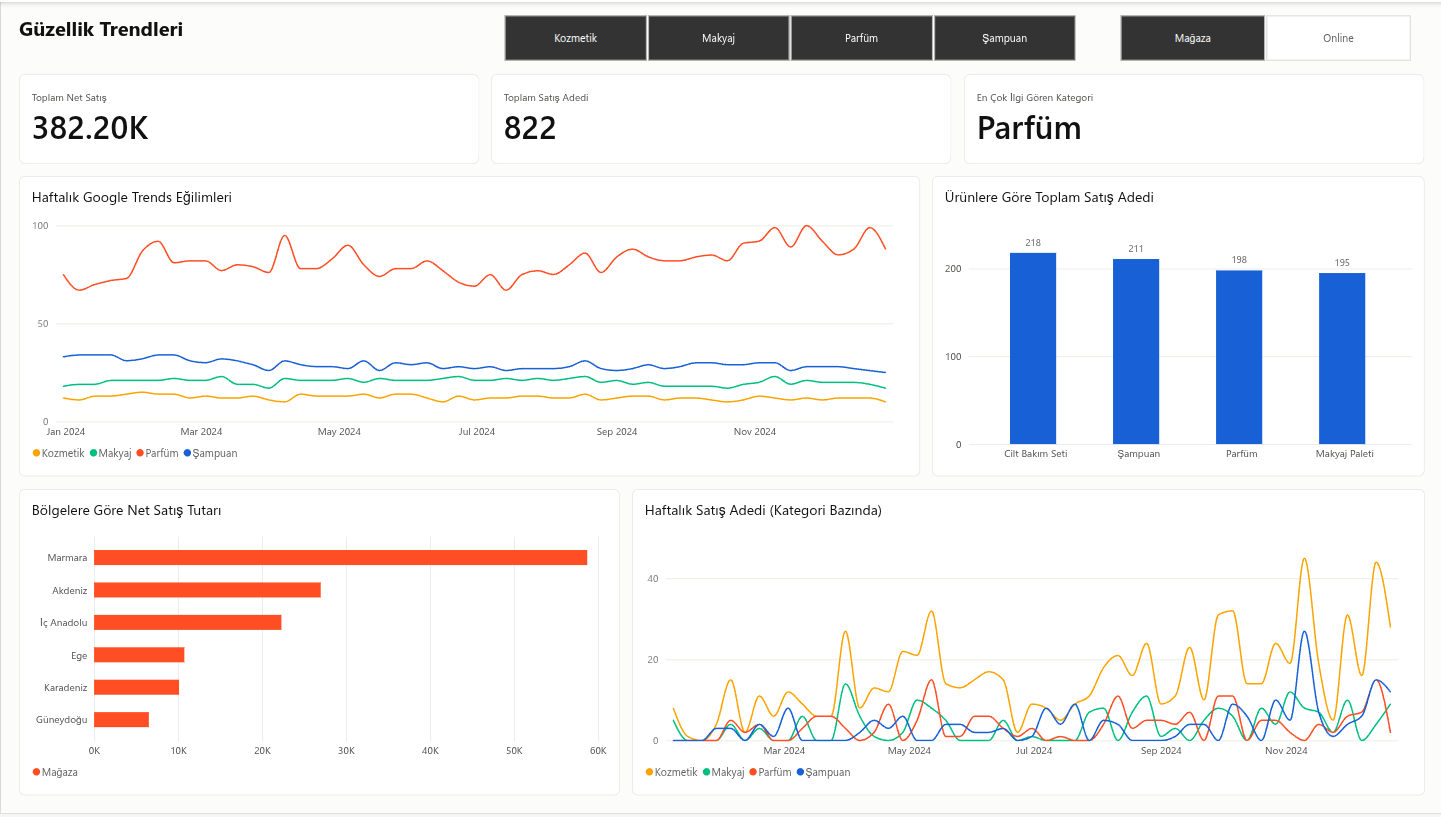

Layout of this report page (visuals, bound fields, positions):
{"tool":"powerbi","page":{"name":"Page 1","canvas":[1920,1080],"ordinal":0},"visuals":[{"type":"cardVisual","fields":{"Data":["Sum(kozmetik_urun.net_satis_tutari)"]},"box":[24,96,613,120],"z":0},{"type":"cardVisual","fields":{"Data":["Sum(kozmetik_urun.toplam_satis_adedi)"]},"box":[653,96,613,120],"z":1},{"type":"cardVisual","fields":{"Data":["Min(kategori_siralama.kategori)"]},"box":[1282,96,613,120],"z":2},{"type":"lineChart","title":"Haftalık Google Trends Eğilimleri","fields":{"Category":["trends_haftalik.tarih"],"Series":["trends_haftalik.kategori"],"Y":["Avg(trends_haftalik.arama_puani)"]},"box":[24,232,1200,400],"z":3},{"type":"lineChart","title":"Haftalık Satış Adedi (Kategori Bazında)","fields":{"Category":["trends_satis.hafta_baslangic"],"Series":["trends_satis.kategori"],"Y":["Avg(trends_satis.satis_adedi)"]},"box":[840,648,1056,408],"z":4},{"type":"clusteredColumnChart","title":"Ürünlere Göre Toplam Satış Adedi","fields":{"Category":["kozmetik_urun.urun"],"Y":["Sum(kozmetik_urun.toplam_satis_adedi)"]},"box":[1240,232,656,400],"z":5},{"type":"clusteredBarChart","title":"Bölgelere Göre Net Satış Tutarı","fields":{"Category":["kanal_bolge.bolge"],"Series":["kanal_bolge.kanal"],"Y":["Sum(kanal_bolge.net_satis_tutari)"]},"box":[24,648,800,408],"z":6},{"type":"textbox","box":[24,16,600,64],"z":7},{"type":"slicer","fields":{"Values":["kategori_siralama.kategori"]},"box":[650,16,800,64],"z":8},{"type":"slicer","fields":{"Values":["kanal_bolge.kanal"]},"box":[1470,16,426,64],"z":9}]}

Visuals, with their boxes in screenshot pixels (x1, y1, x2, y2), scaled from the page's 1920x1080 canvas onto the 1441x817 screenshot:
cardVisual - Sum(kozmetik_urun.net_satis_tutari): l=18, t=73, r=478, b=163
cardVisual - Sum(kozmetik_urun.toplam_satis_adedi): l=490, t=73, r=950, b=163
cardVisual - Min(kategori_siralama.kategori): l=962, t=73, r=1422, b=163
"Haftalık Google Trends Eğilimleri" lineChart: l=18, t=176, r=919, b=478
"Haftalık Satış Adedi (Kategori Bazında)" lineChart: l=630, t=490, r=1423, b=799
"Ürünlere Göre Toplam Satış Adedi" clusteredColumnChart: l=931, t=176, r=1423, b=478
"Bölgelere Göre Net Satış Tutarı" clusteredBarChart: l=18, t=490, r=618, b=799
textbox: l=18, t=12, r=468, b=61
slicer - kategori_siralama.kategori: l=488, t=12, r=1088, b=61
slicer - kanal_bolge.kanal: l=1103, t=12, r=1423, b=61
